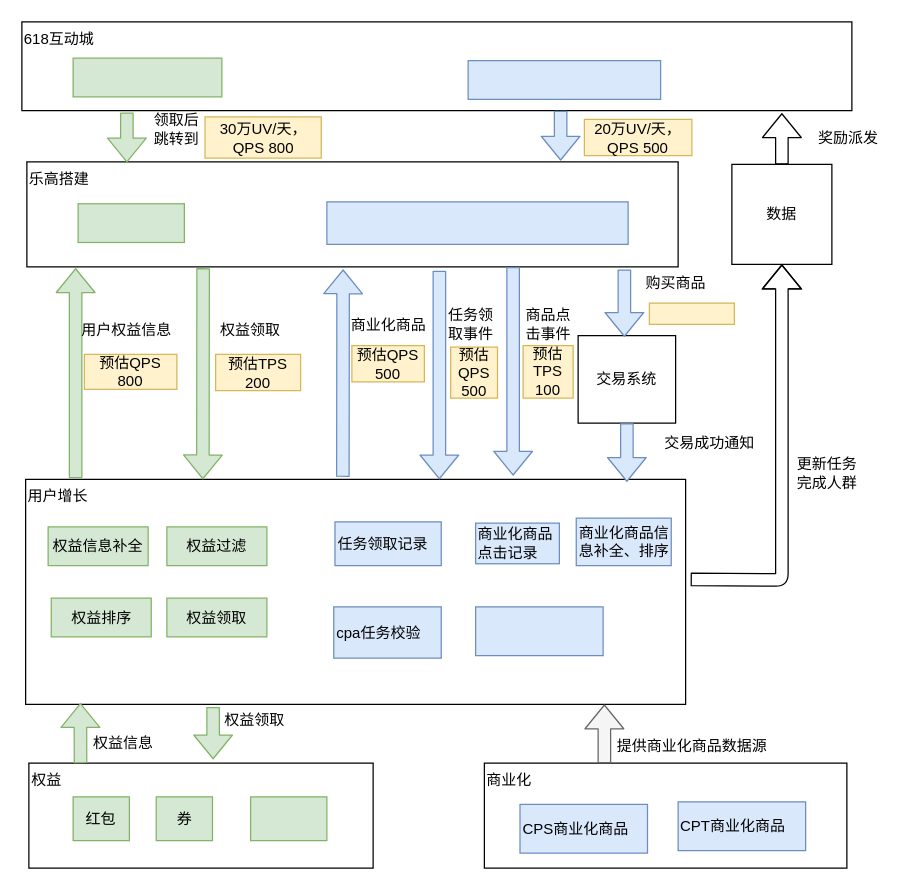
Image size: 905x890. Some labels were removed from this diagram. Each missing label, with the centre of its shape:
"cpa任务奖励派发" belongs at [538,631].
"商业化商品承接页" belongs at [477,222].
"新客转化任务" belongs at [564,79].
"用户领取状态" belongs at [288,818].
"逛一逛任务" belongs at [147,77].
"逛一逛承接页" belongs at [130,222].
"预估TPS 30" belongs at [691,313].
